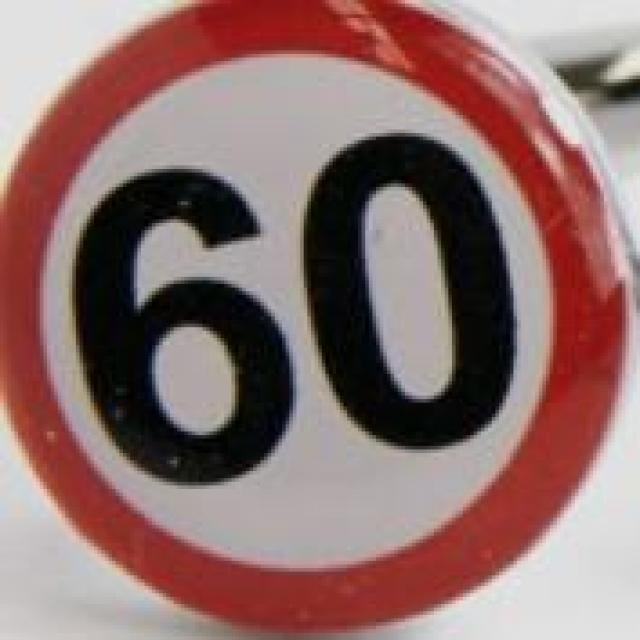speed_limit_60: (0, 3, 618, 636)
